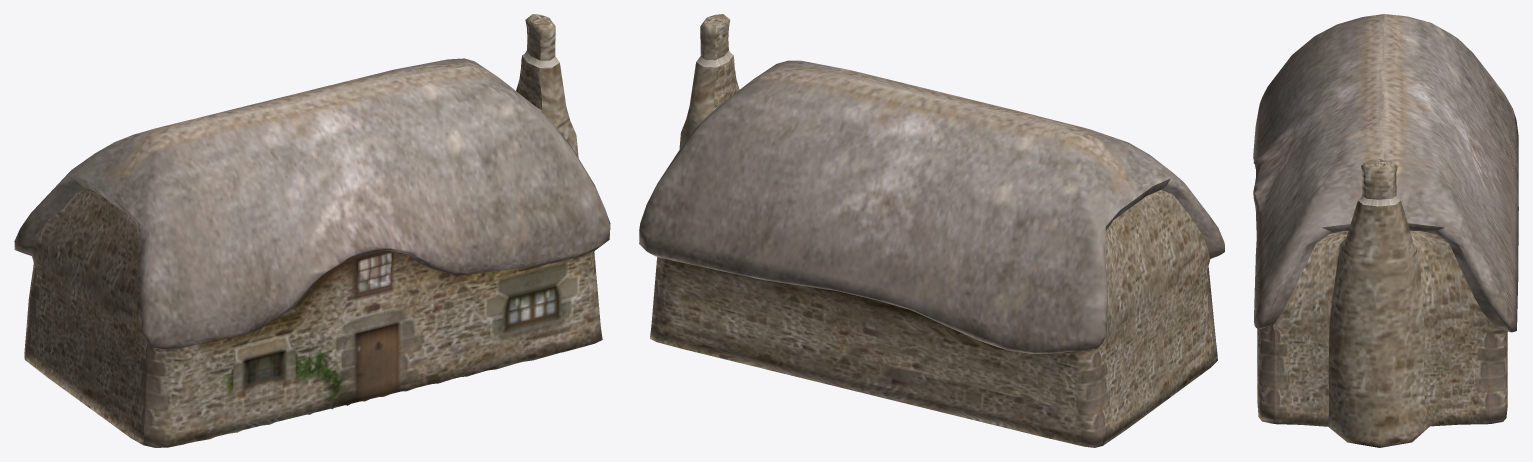
Rendered from mruh1lod3.fbx.
The picture shows the model from 3 angles, left to right: view 1: azimuth 30°, elevation 25°; view 2: azimuth 150°, elevation 25°; view 3: azimuth 270°, elevation 25°; orthographic projection. The views are drawn at different scales.
Parts seen in each view (by area): view 1: U3DMesh; view 2: U3DMesh; view 3: U3DMesh.
Part boxes in pixels (bbox=[...]): U3DMesh: bbox=[14, 14, 610, 447]; U3DMesh: bbox=[639, 14, 1224, 447]; U3DMesh: bbox=[1253, 14, 1518, 447].
Bounding box in the file's own units: 520 × 286 × 254.
Materials: 1 (1 with a texture image).
